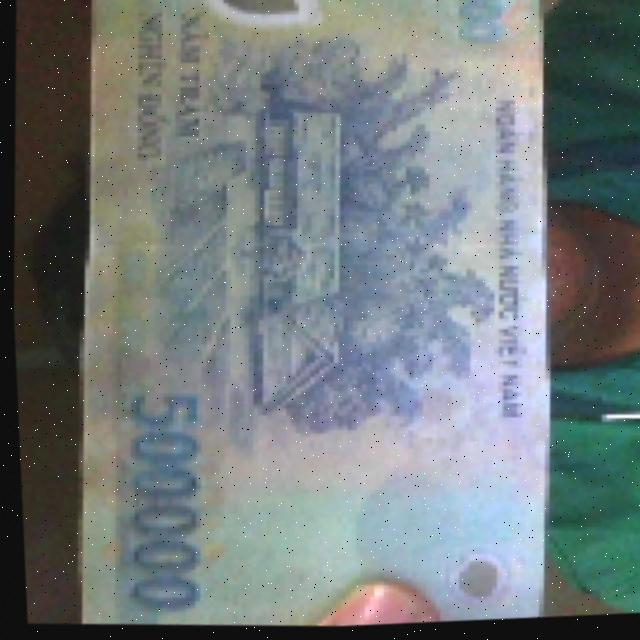500 000 VND: (44, 0, 575, 638)
